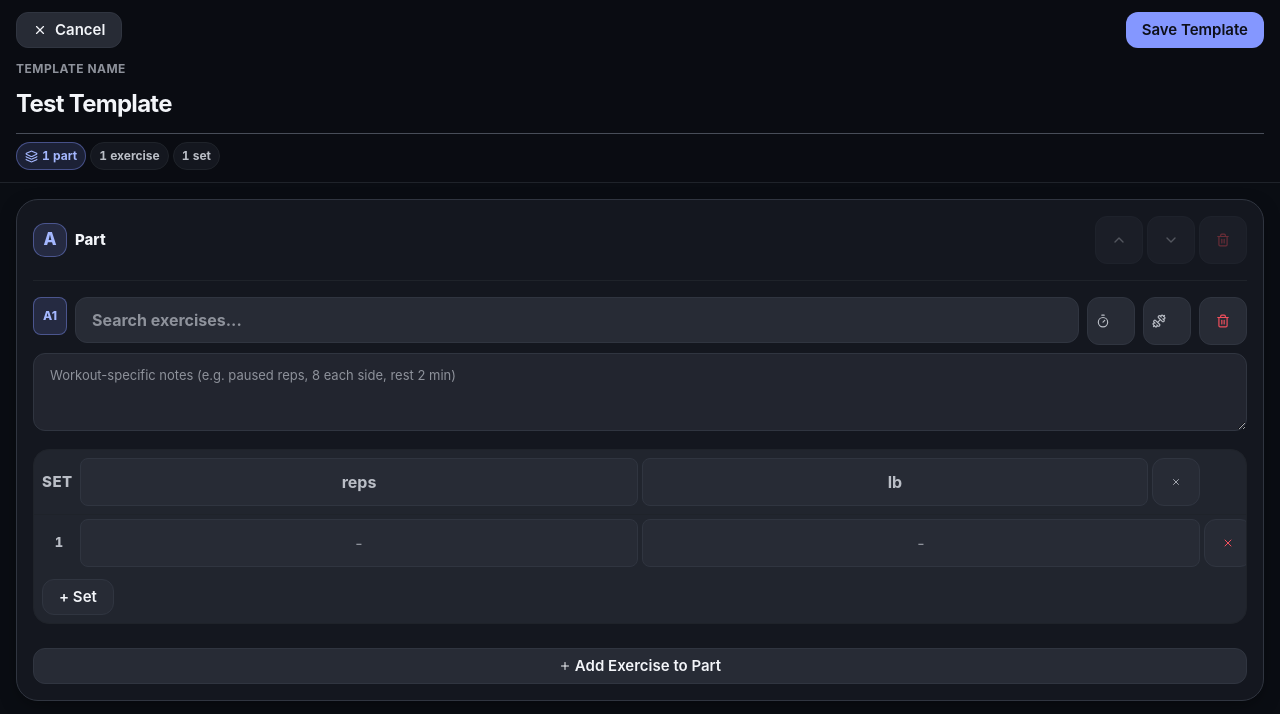
Test: TemplateEditorView deferred exercise-title commit › keeps a newly added exercise (and the typed title) after clicking Add Exercise to Part
Step 1. Type "Overhead Press" into the field with placeholder "Search exercises..." → [577, 320], box left=75, top=297, right=1079, bottom=343
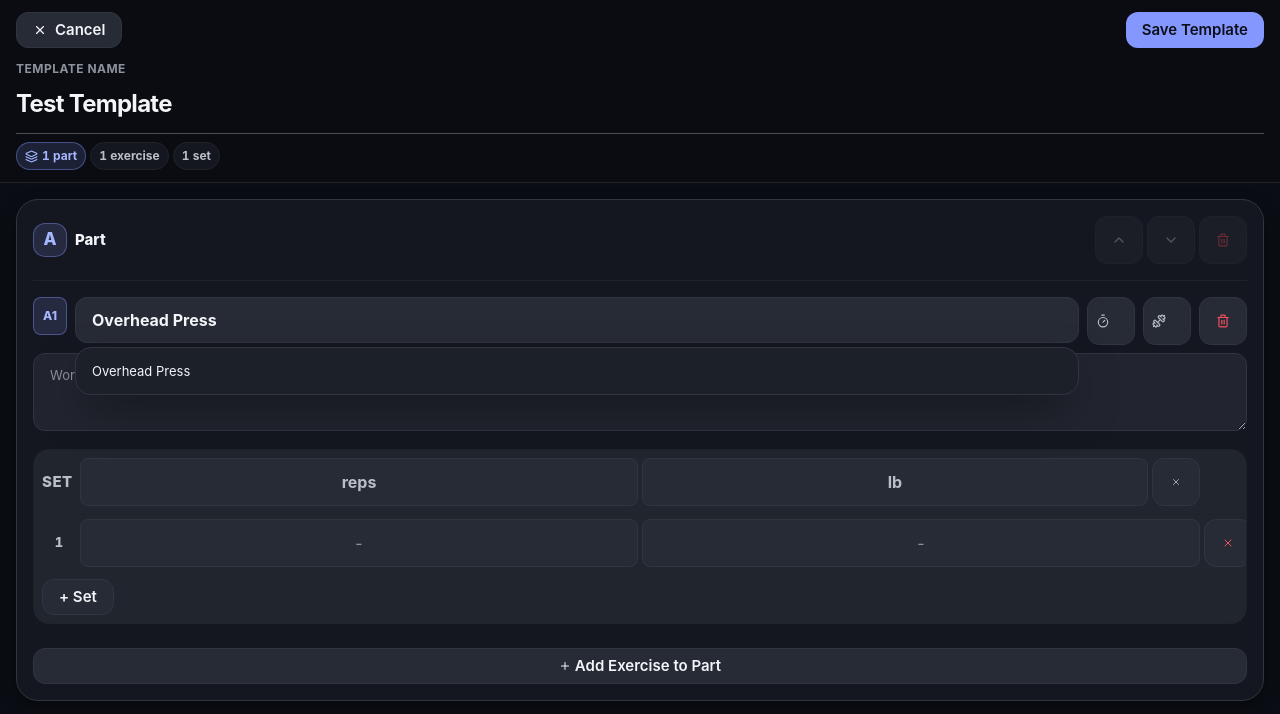
# Before the deferred blur commit fires, add a second exercise to the part.
Step 2. Click the button "Add Exercise to Part" → [640, 666], box left=33, top=648, right=1247, bottom=684
Wait 200 ms
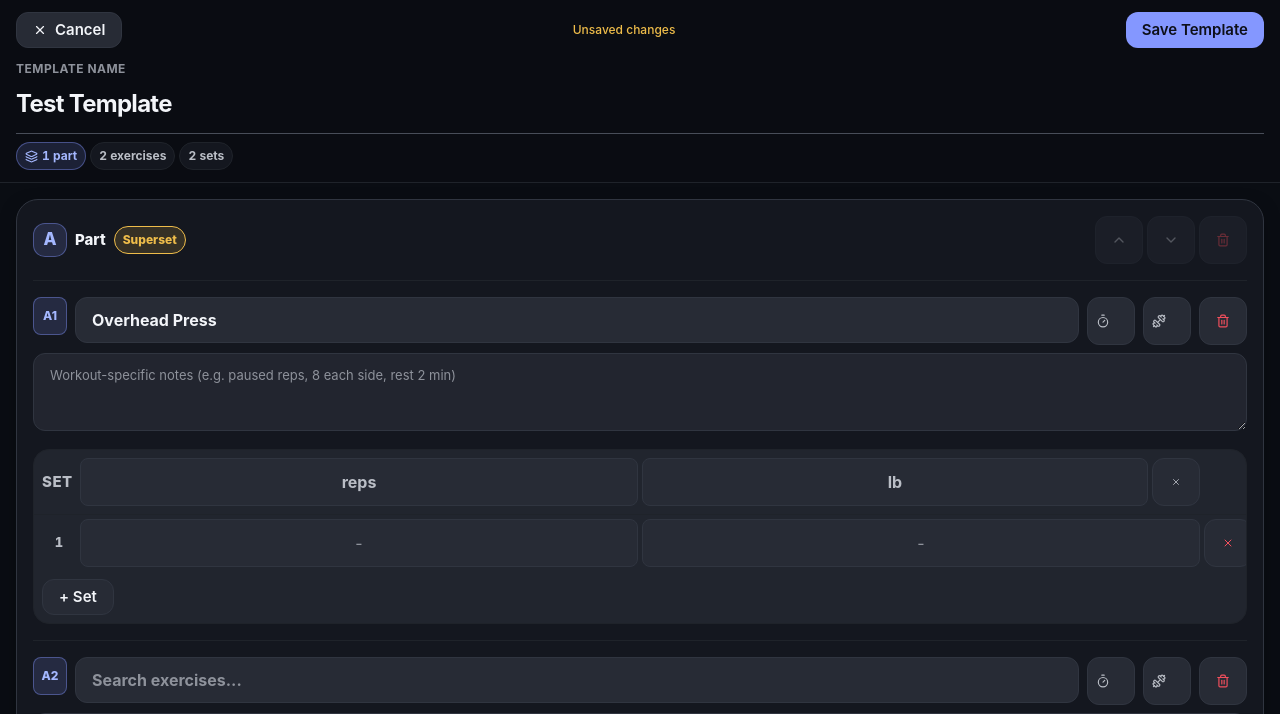
Now the number of fields with placeholder "Search exercises..." is 2, box left=75, top=297, right=1079, bottom=343; left=75, top=657, right=1079, bottom=703
